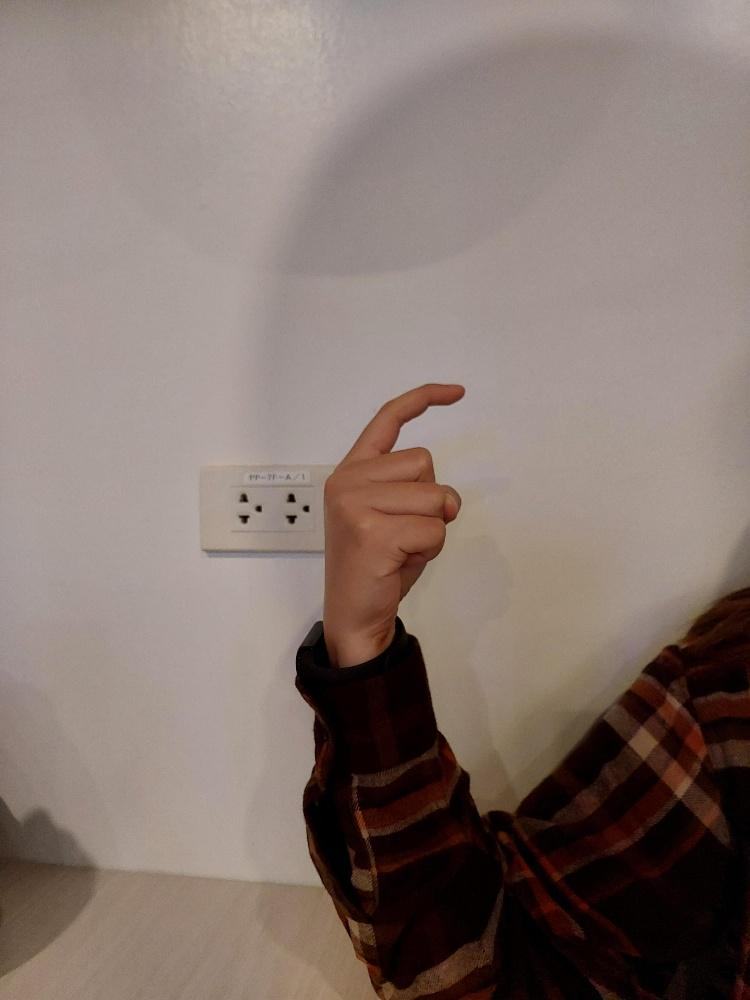x: (319, 376, 470, 644)
